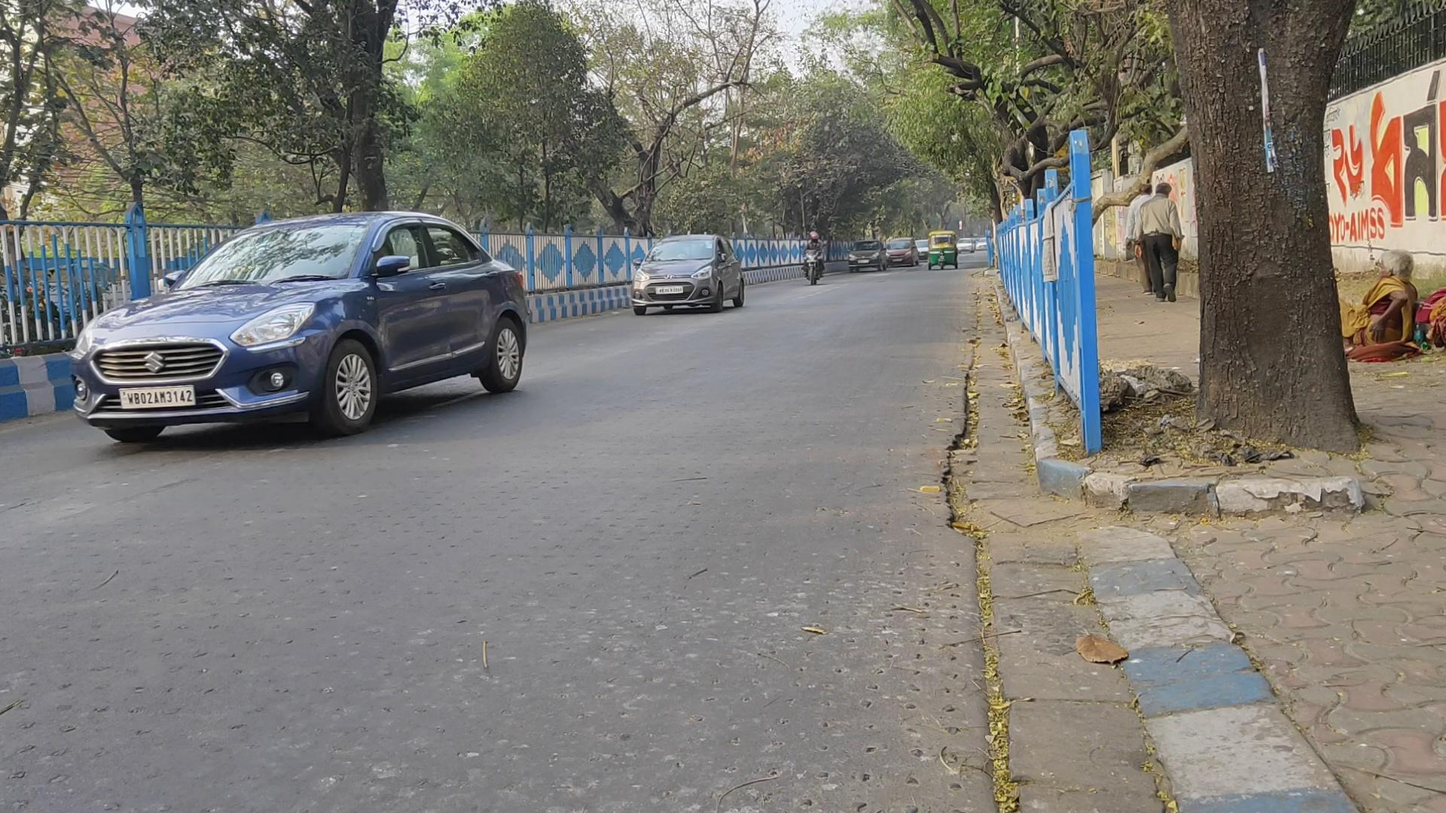Auto: (926, 230, 959, 271)
bike: (801, 230, 828, 285)
car: (69, 210, 526, 443), (633, 233, 745, 317), (846, 239, 889, 274), (886, 237, 920, 269), (956, 237, 978, 254)
